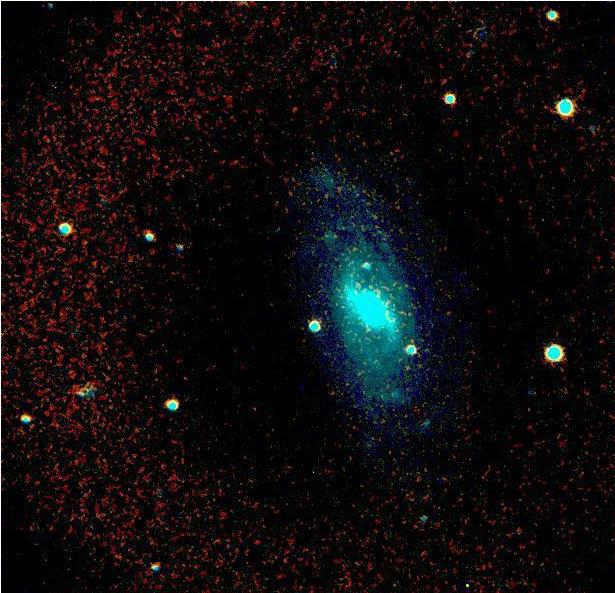star: (337, 177, 367, 207)
